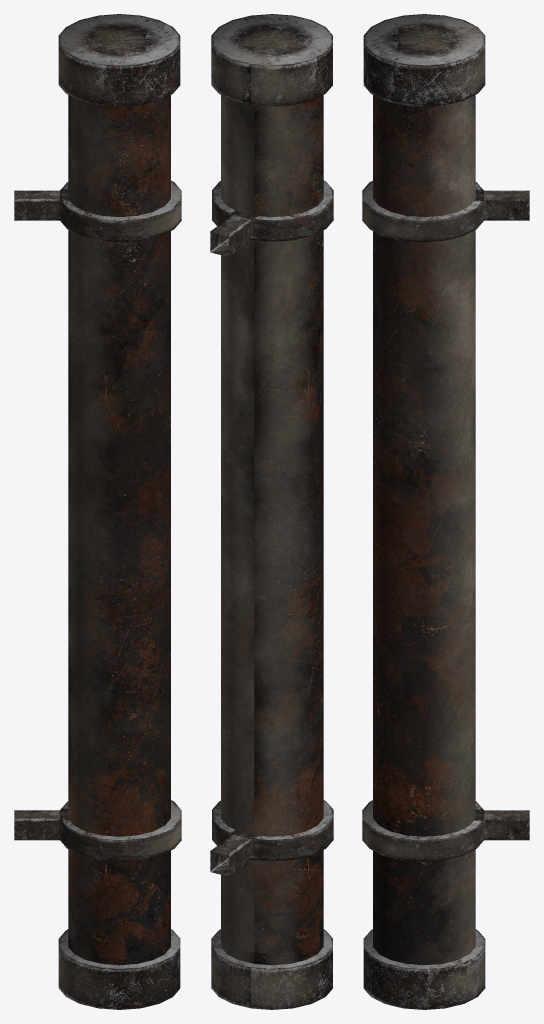
File: SM_Pipe2m.FBX
3 views of the same model, side by side, from view 1: azimuth 90°, elevation 25°; view 2: azimuth 150°, elevation 25°; view 3: azimuth 270°, elevation 25° (orthographic).
Parts seen in each view (by area): view 1: SM_Pipe2m; view 2: SM_Pipe2m; view 3: SM_Pipe2m.
Boxes of the visible parts, x1,y1,x2,y2 form: SM_Pipe2m: (14,14,181,1009); SM_Pipe2m: (210,14,333,1009); SM_Pipe2m: (362,14,529,1009).
Bounding box in the file's own units: 23.73 × 32.13 × 200.
